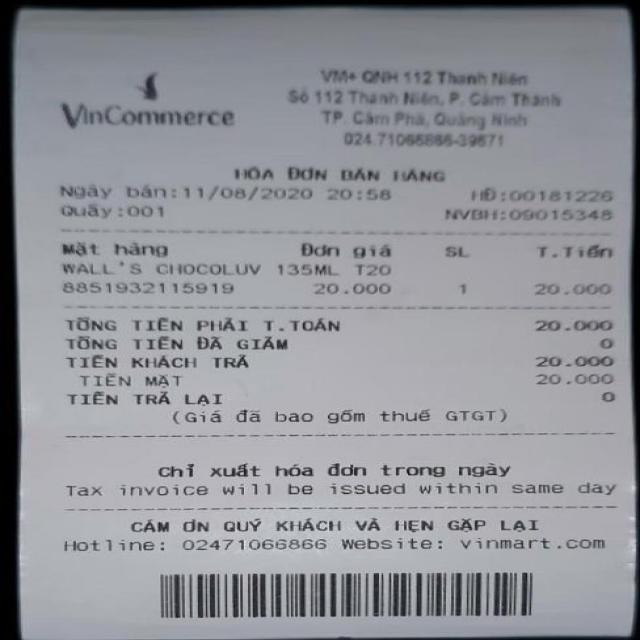Date: (183, 182, 311, 200)
Store_Name: (61, 99, 238, 131)
amount_number: (536, 316, 616, 334)
label_total: (62, 314, 344, 335)
